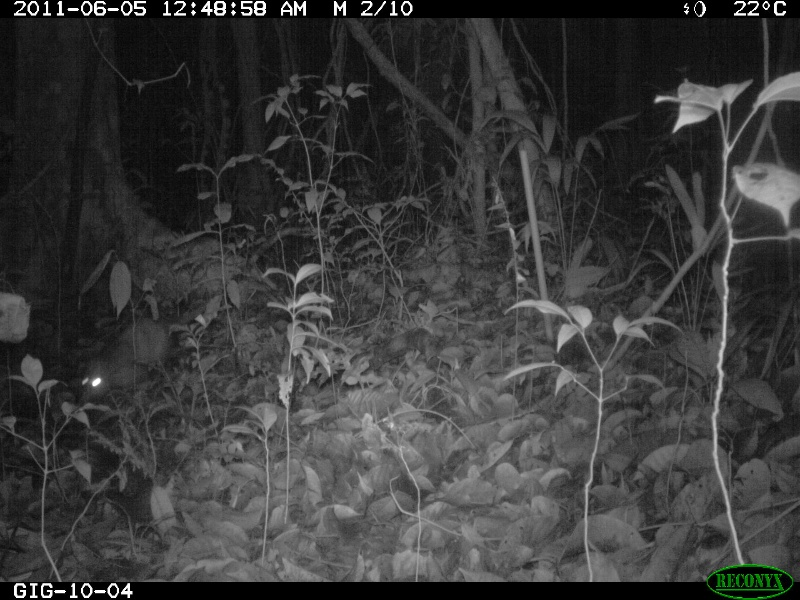opossum: (76, 307, 202, 404)
